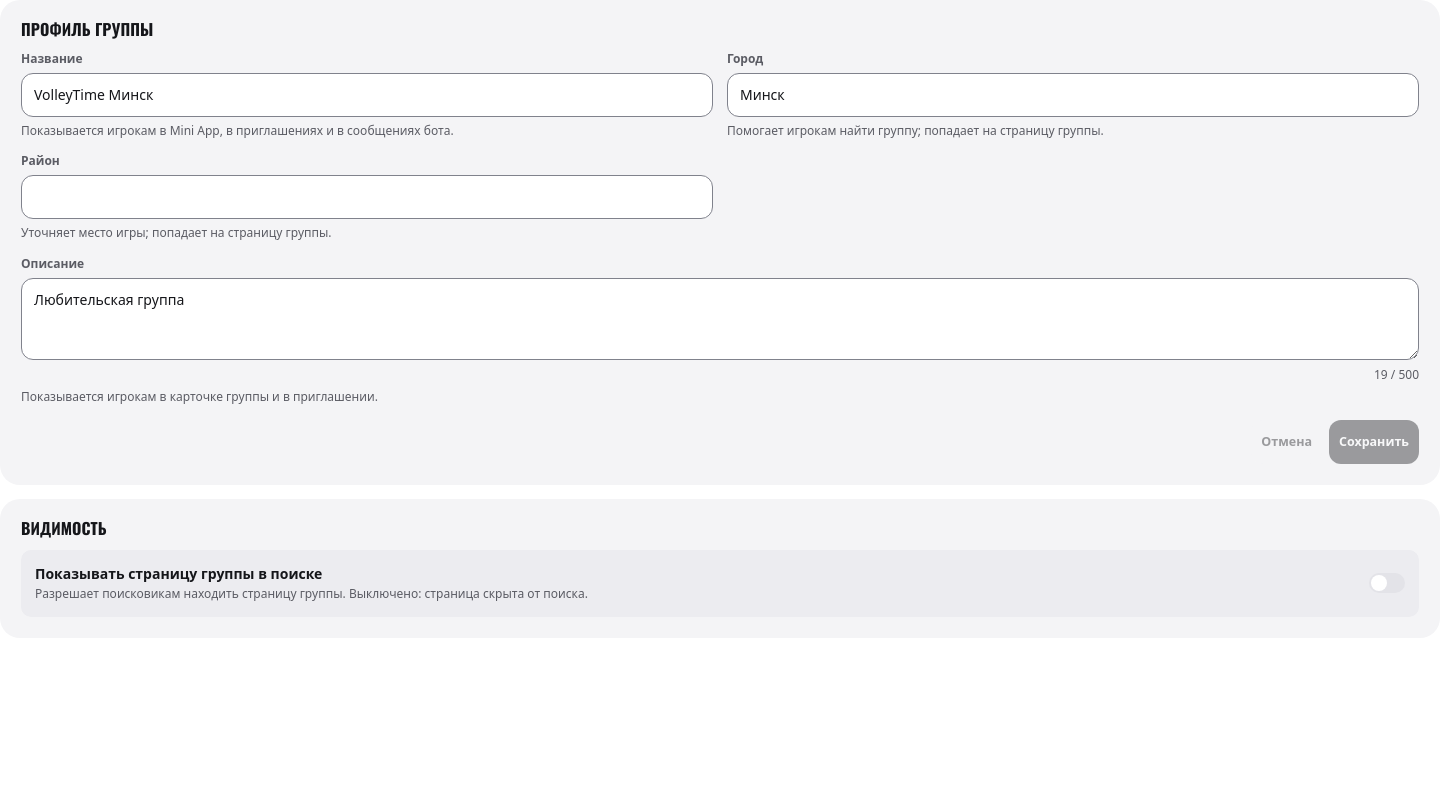
SettingsProfile › cancel restores the saved values
Replace the text in the field labelled "Город" with "Гомель" at (1073, 95), box [727,73,1419,117]
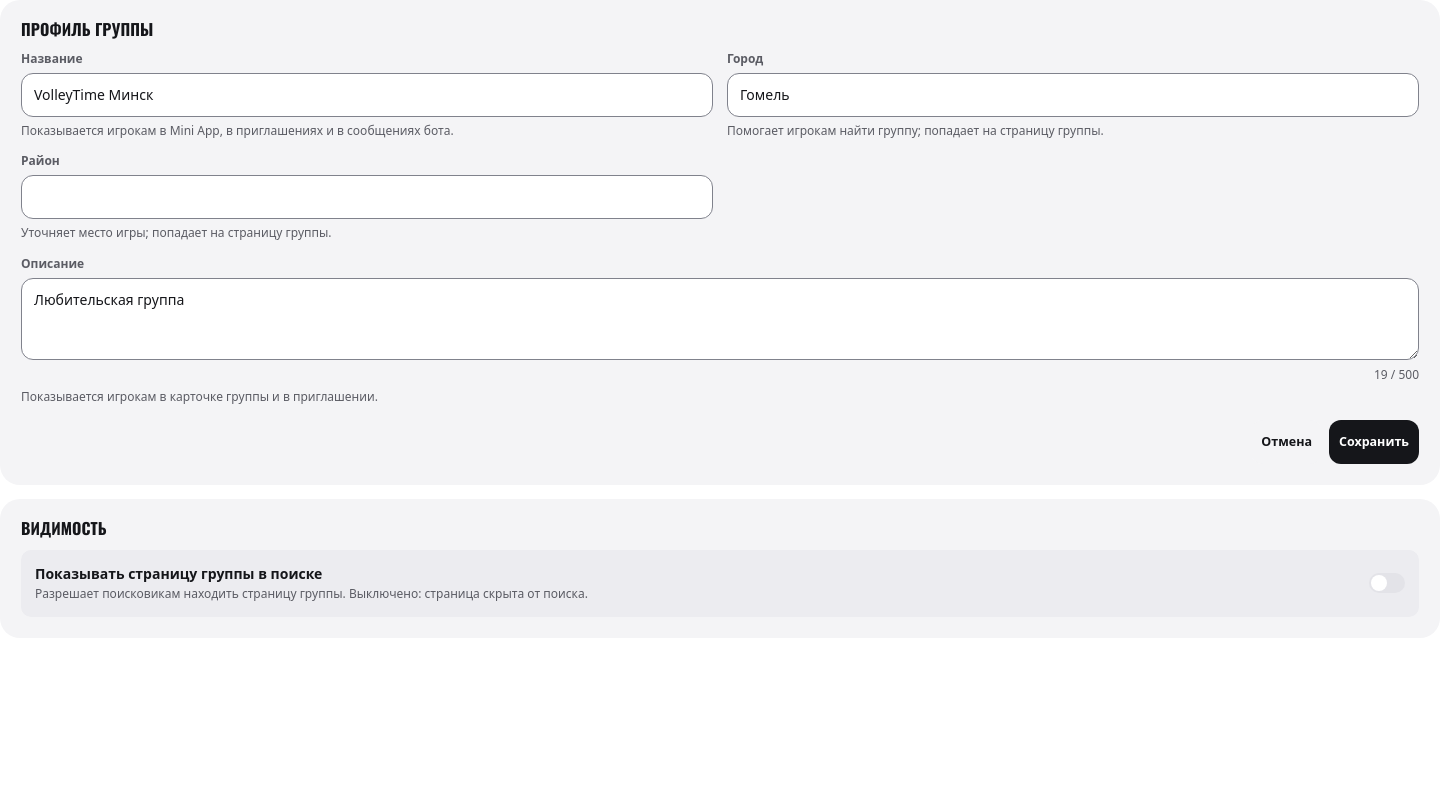
Click the button "Отмена" at (1287, 442), box [1251,420,1322,464]
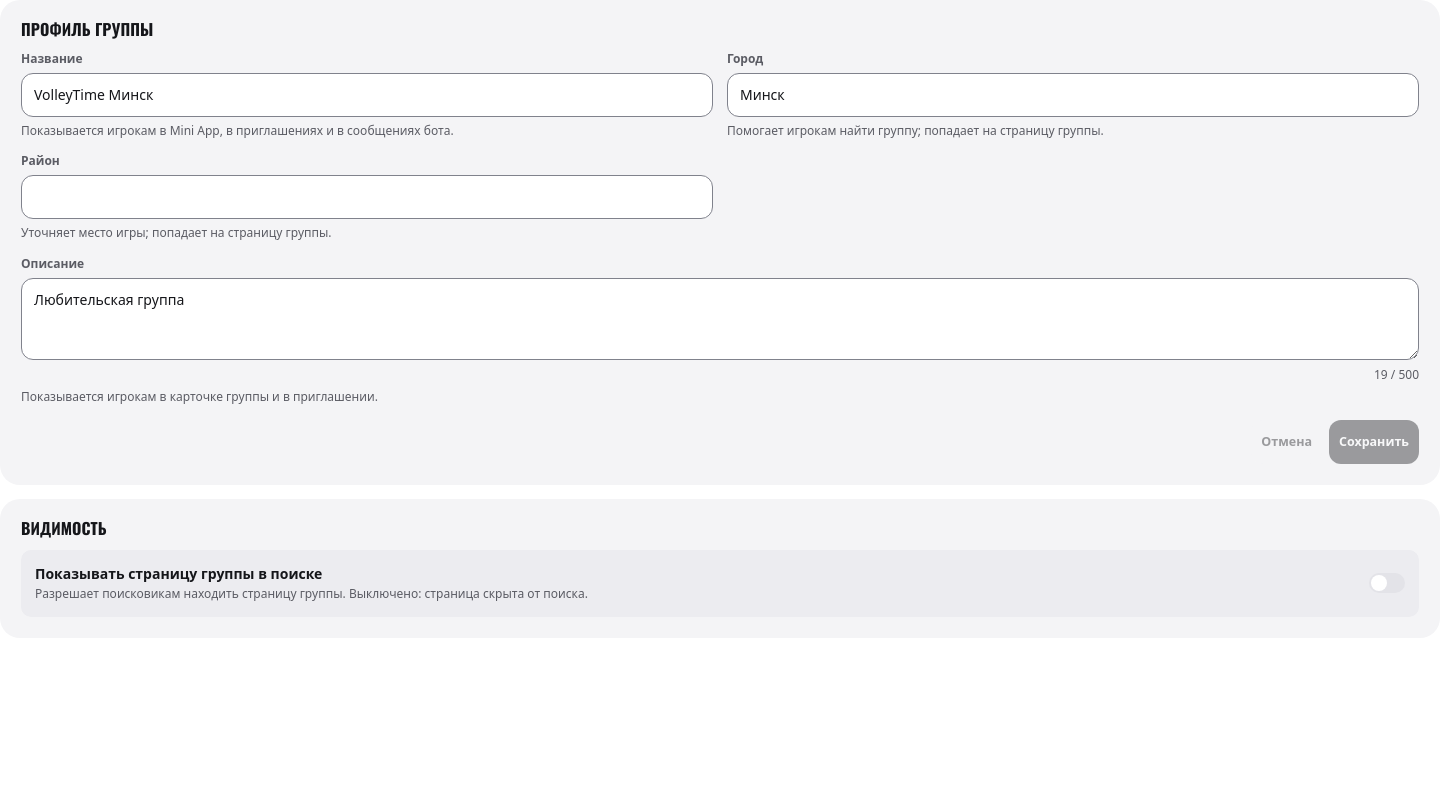
Result: the field labelled "Город" holds "Минск" at [727,73,1419,117]
